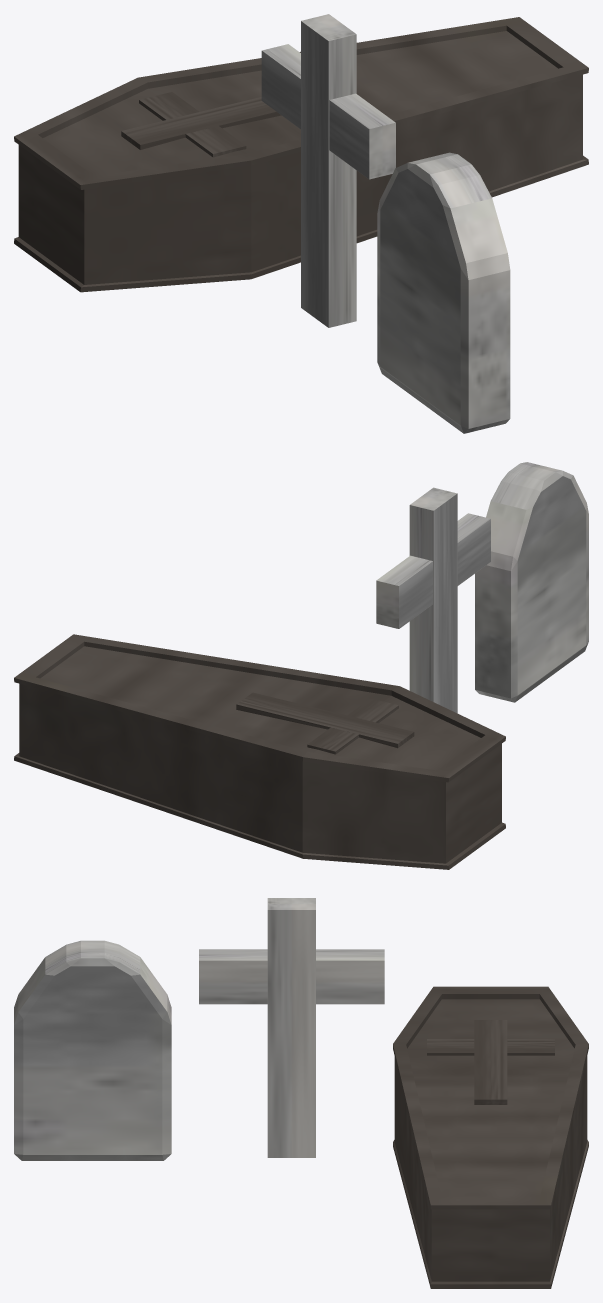
File: Graves.fbx
The picture shows the model from 3 angles, top to bottom: view 1: azimuth 30°, elevation 25°; view 2: azimuth 150°, elevation 25°; view 3: azimuth 270°, elevation 25°; orthographic projection. The views are drawn at different scales.
Parts seen in each view (by area): view 1: Cube.003, Cube, Cube.001, Cube.002, Cube.004, Cube.005; view 2: Cube.003, Cube, Cube.001, Cube.002, Cube.004, Cube.005; view 3: Cube.003, Cube, Cube.001, Cube.002, Cube.004, Cube.005.
Part boxes in pixels (<box>): Cube.003: <box>14,17,588,292</box>; Cube: <box>377,152,510,433</box>; Cube.001: <box>301,14,356,327</box>; Cube.002: <box>261,44,395,179</box>; Cube.004: <box>121,97,281,149</box>; Cube.005: <box>139,92,246,157</box>; Cube.003: <box>14,634,505,869</box>; Cube: <box>475,462,588,702</box>; Cube.001: <box>409,487,457,713</box>; Cube.002: <box>376,513,490,628</box>; Cube.004: <box>236,692,414,748</box>; Cube.005: <box>307,698,398,754</box>; Cube.003: <box>393,986,588,1288</box>; Cube: <box>14,940,171,1160</box>; Cube.001: <box>267,898,315,1157</box>; Cube.002: <box>199,949,384,1004</box>; Cube.004: <box>474,1020,507,1104</box>; Cube.005: <box>427,1039,554,1055</box>.
Size of the model in its own units: 642 by 351 by 729.
Materials: 2 (2 with a texture image).
